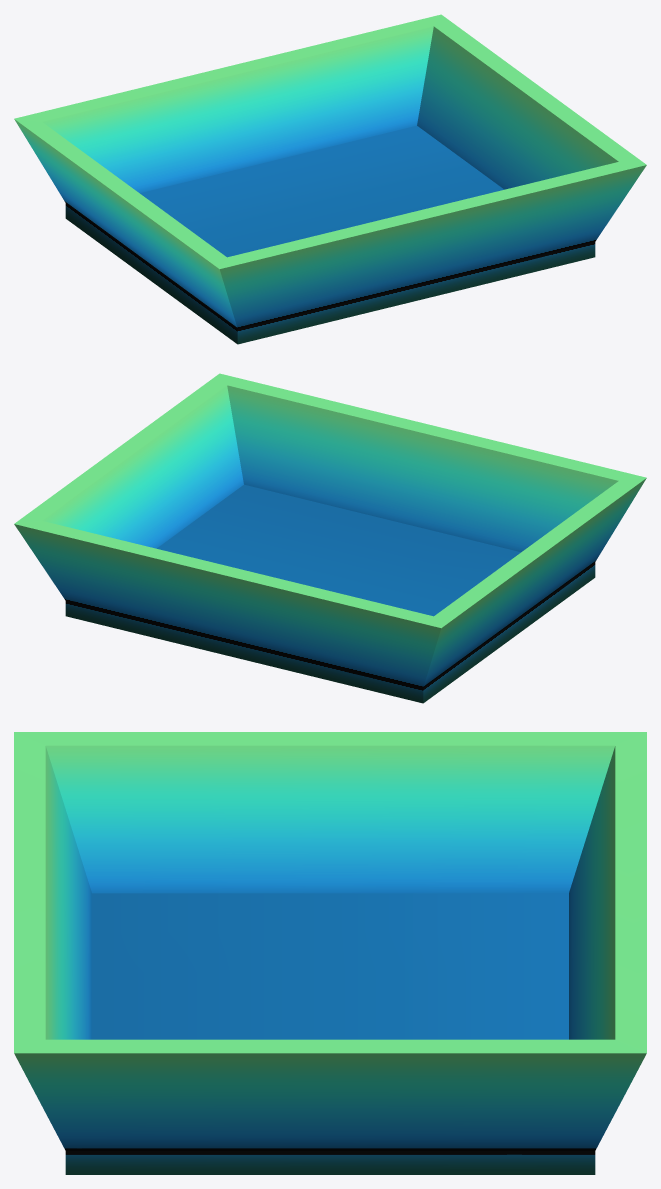
File: containerSquare.FBX
3 renders of one model, top to bottom at view 1: azimuth 30°, elevation 25°; view 2: azimuth 150°, elevation 25°; view 3: azimuth 270°, elevation 25°, orthographic. The views are drawn at different scales.
Visible parts, largest first — view 1: Box01; view 2: Box01; view 3: Box01.
Part boxes in pixels (x1,y1,x2,y2): Box01: [14, 14, 646, 344]; Box01: [14, 373, 646, 703]; Box01: [14, 732, 646, 1174].
Bounding box in the file's own units: 6.21 × 1.33 × 5.18.
